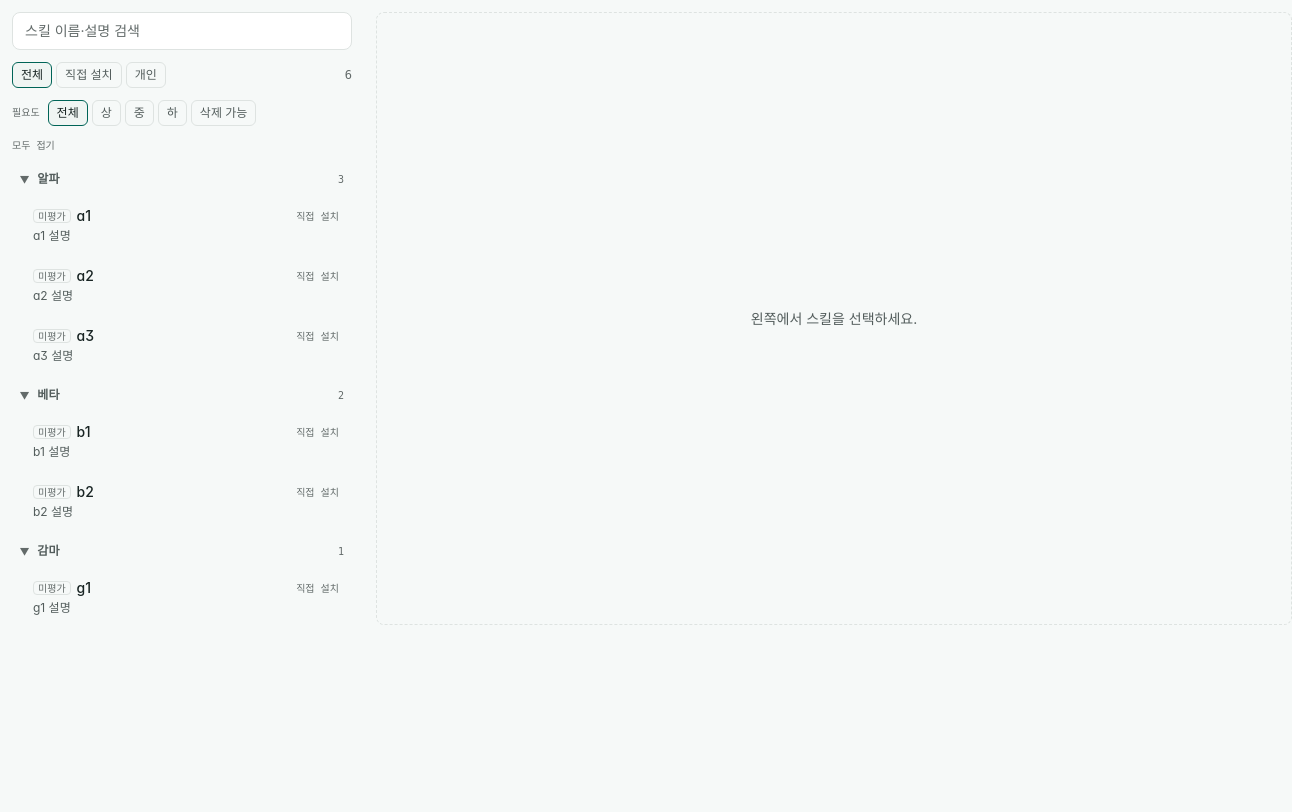
Scenario: SkillCatalog 접기/펼치기 › 두 섹션 접기는 독립적 — 누적 전체 접힘 버그 없음
This screenshot has width=1292, height=812.
Click the button "▶ 알파 3": [25, 179] box [12,165,352,193]
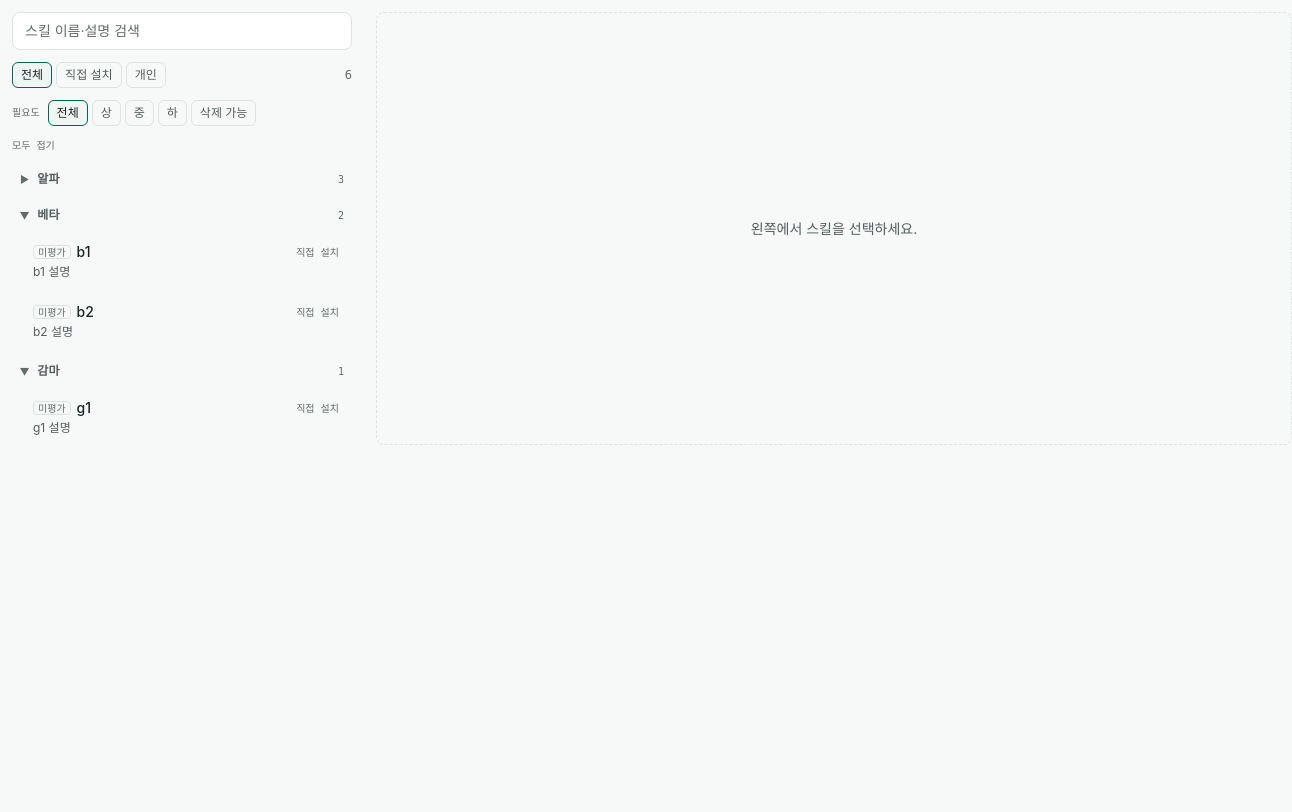
Click the button "▶ 베타 2": [25, 215] box [12,201,352,229]
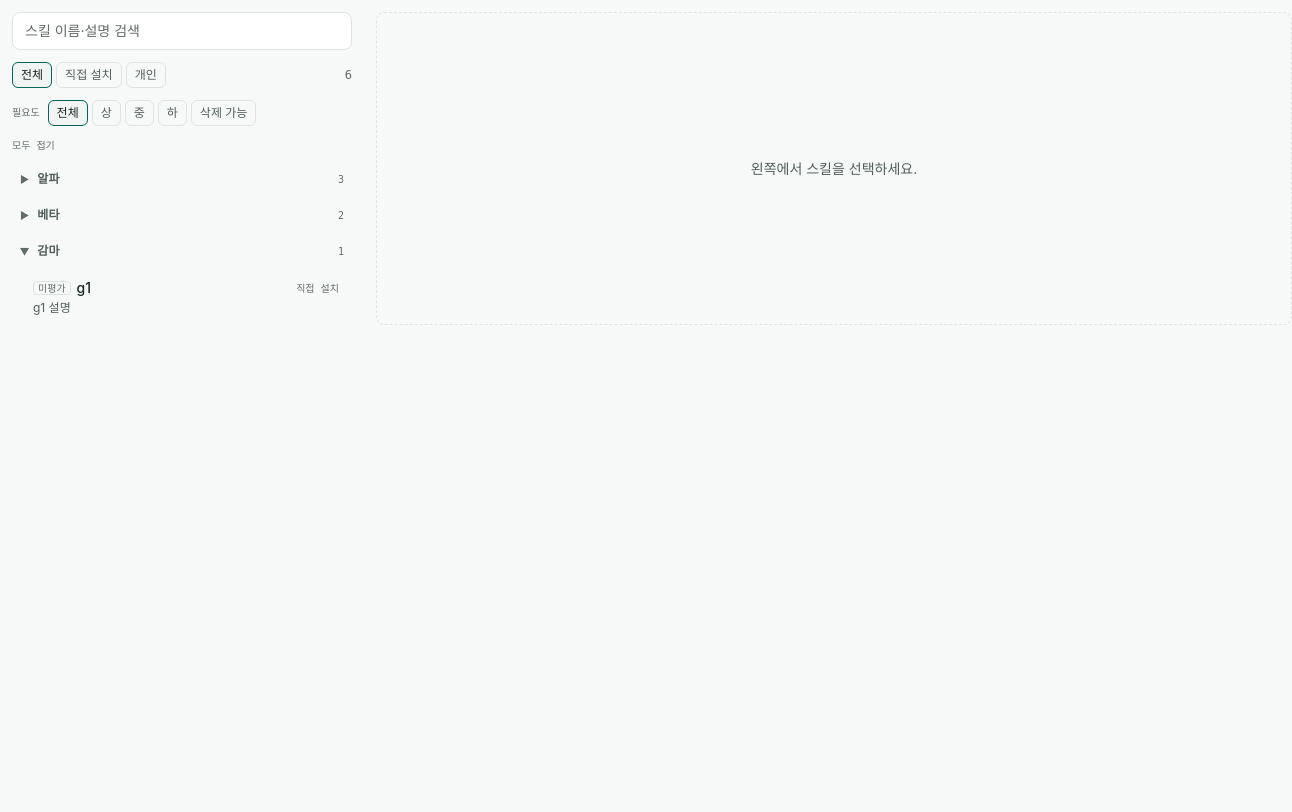
Expected: the button "▶ 알파 3" is collapsed, [12,165,352,193]
Expected: the button "▶ 베타 2" is collapsed, [12,201,352,229]
